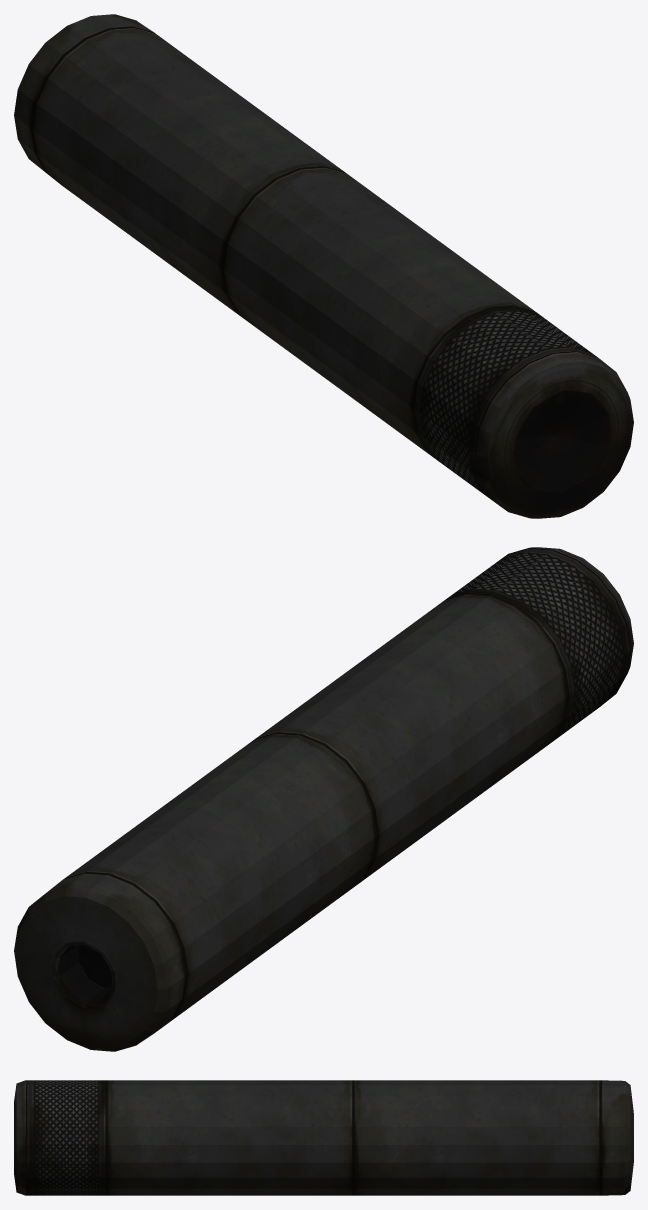
File: Supressor.fbx
The picture shows the model from 3 angles, top to bottom: view 1: azimuth 30°, elevation 25°; view 2: azimuth 150°, elevation 25°; view 3: azimuth 270°, elevation 25°; orthographic projection. The views are drawn at different scales.
Parts seen in each view (by area): view 1: Suppressor; view 2: Suppressor; view 3: Suppressor.
Boxes of the visible parts, x1,y1,x2,y2 form: Suppressor: (14, 14, 633, 518); Suppressor: (14, 547, 633, 1051); Suppressor: (14, 1080, 633, 1195).
Size of the model in its own units: 0.1153 by 0.1153 by 0.6149.
